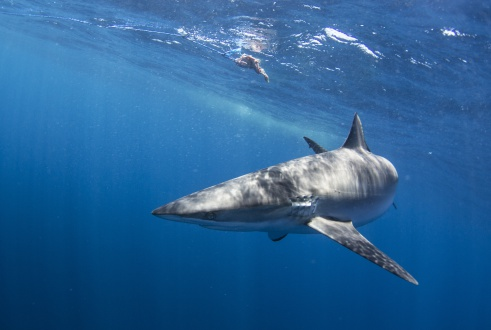Sedoso: (150, 109, 441, 286)
